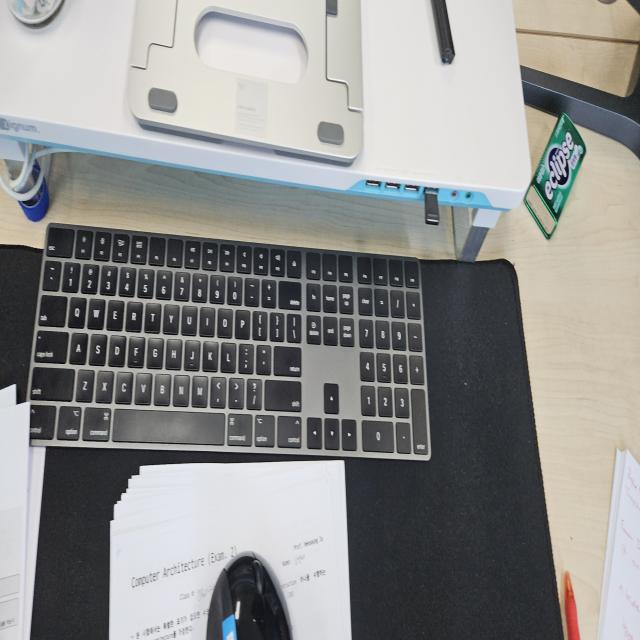Keyboard: (25, 219, 432, 461)
Mouse: (204, 547, 293, 637)
